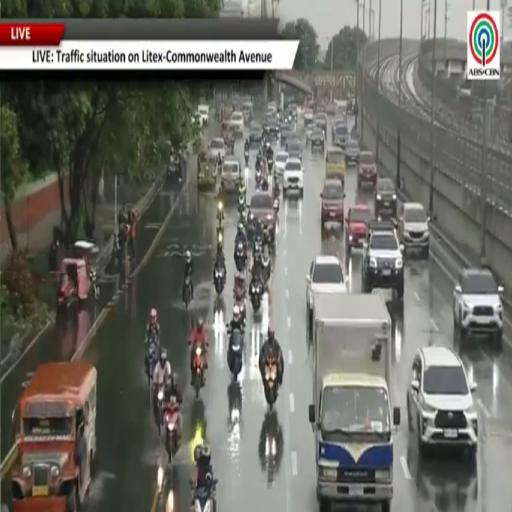car: (407, 346, 477, 463), (453, 269, 503, 349), (362, 221, 404, 299), (306, 255, 347, 326), (399, 202, 429, 258), (247, 191, 276, 244), (345, 204, 371, 254), (321, 180, 345, 227), (375, 178, 397, 219), (283, 158, 303, 198), (221, 156, 241, 194), (357, 151, 377, 189), (333, 124, 349, 149), (345, 139, 360, 165), (286, 138, 302, 162), (209, 138, 226, 159), (230, 111, 244, 136), (331, 116, 346, 139), (311, 127, 324, 152), (275, 152, 289, 175), (249, 122, 262, 145), (266, 120, 279, 141), (280, 125, 292, 147), (315, 112, 327, 134), (198, 105, 209, 126), (305, 122, 314, 145), (287, 133, 302, 146), (304, 108, 314, 126), (264, 111, 276, 126), (282, 110, 294, 125), (288, 103, 297, 121), (326, 102, 336, 116), (316, 103, 326, 114), (268, 102, 277, 114)
jeepney: (11, 362, 97, 511), (198, 153, 219, 188), (325, 147, 345, 183), (242, 102, 253, 123)
motorcycle: (259, 411, 283, 479), (165, 403, 181, 463), (228, 329, 243, 379), (264, 357, 278, 409), (146, 336, 159, 390), (192, 482, 216, 511), (192, 342, 203, 398), (228, 380, 242, 423), (234, 279, 246, 323), (156, 387, 164, 437), (250, 283, 263, 313), (234, 243, 247, 271), (89, 267, 100, 300), (261, 250, 271, 286), (214, 266, 225, 295), (183, 276, 191, 309), (216, 201, 224, 227), (239, 206, 247, 230), (260, 175, 270, 192), (216, 226, 224, 247), (254, 234, 262, 251), (238, 194, 245, 213), (255, 169, 261, 188), (273, 197, 279, 215), (267, 157, 273, 172), (245, 150, 249, 167)
truck: (309, 293, 400, 511)
